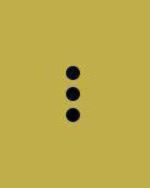ImgButton: (1, 1, 149, 187)
